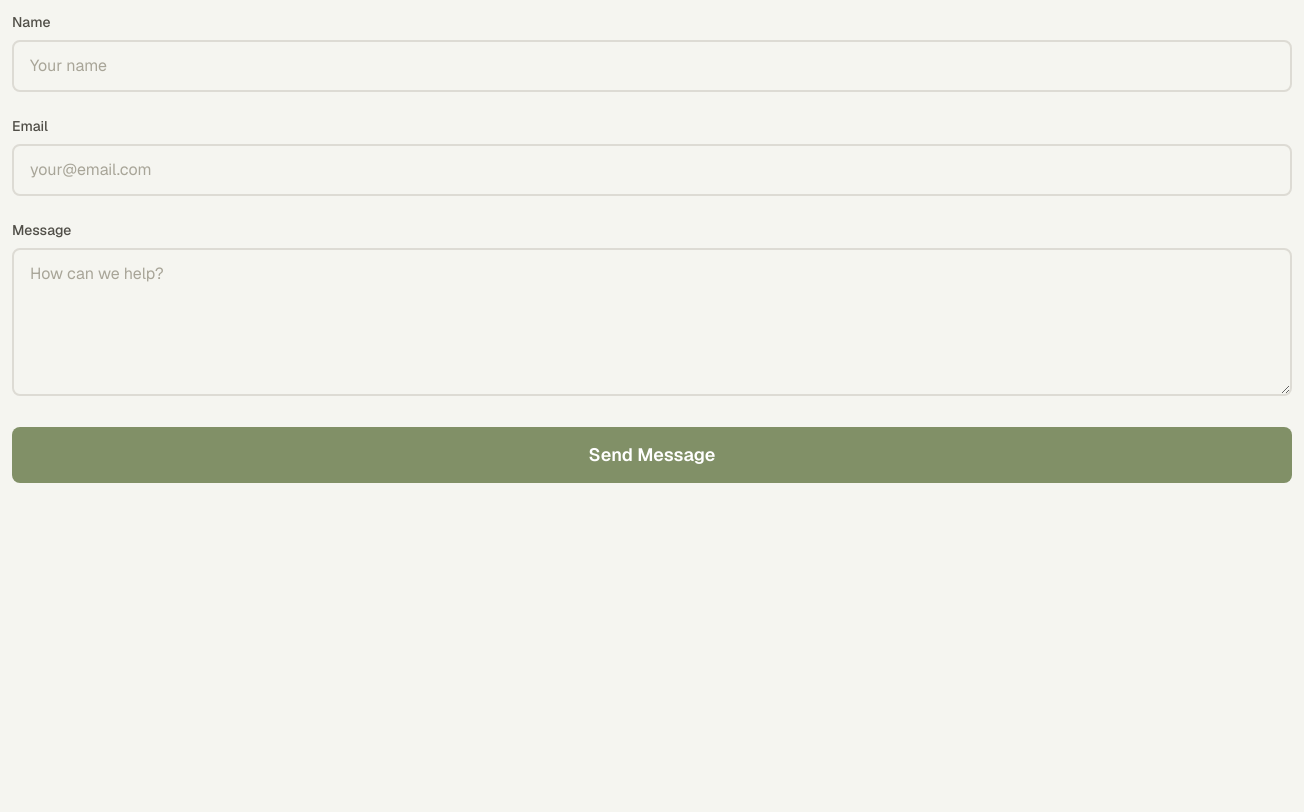
Test: ContactForm › validation › shows error for empty name
What coordinates should you click on to do the following:
click the button "Send Message"
I would click on:
 (652, 455)
Its box is [12,427,1292,483].
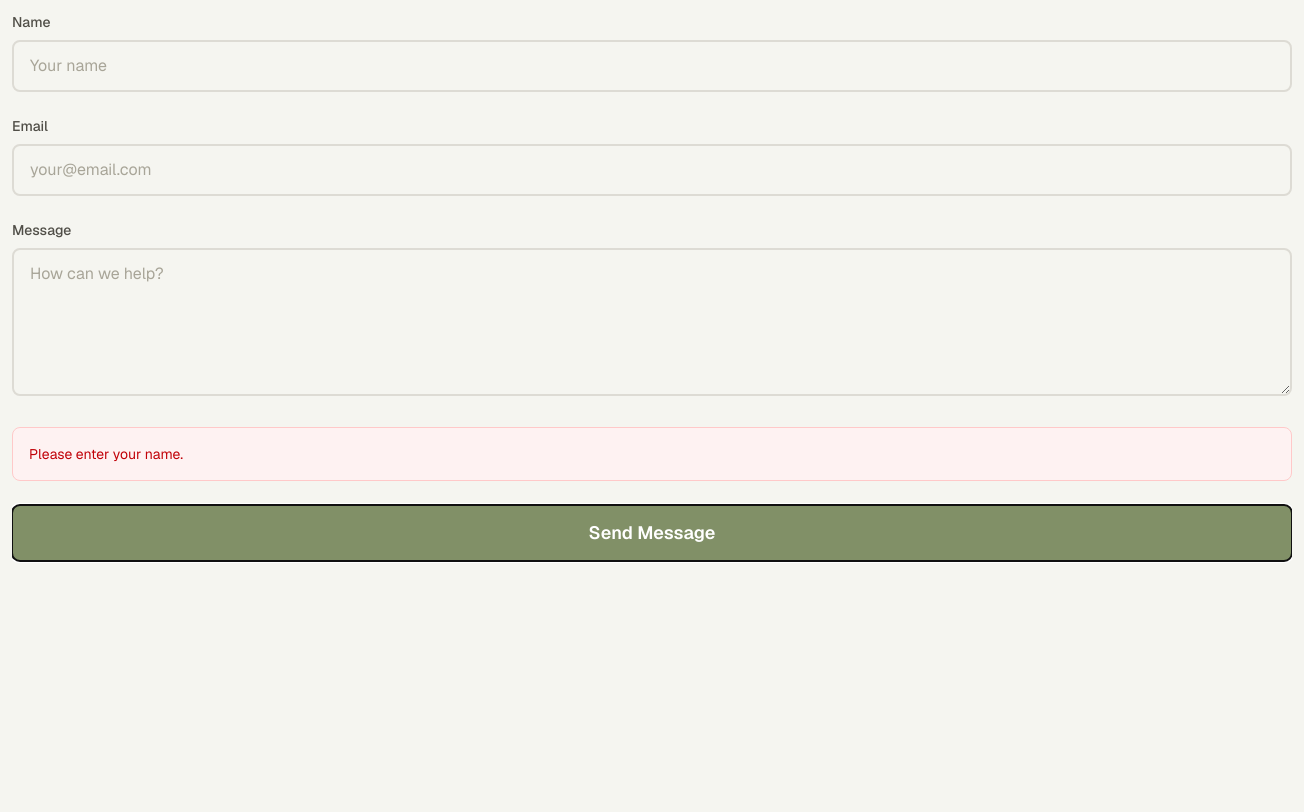
Now the text "Please enter your name." is shown, box [12,427,1292,481]
